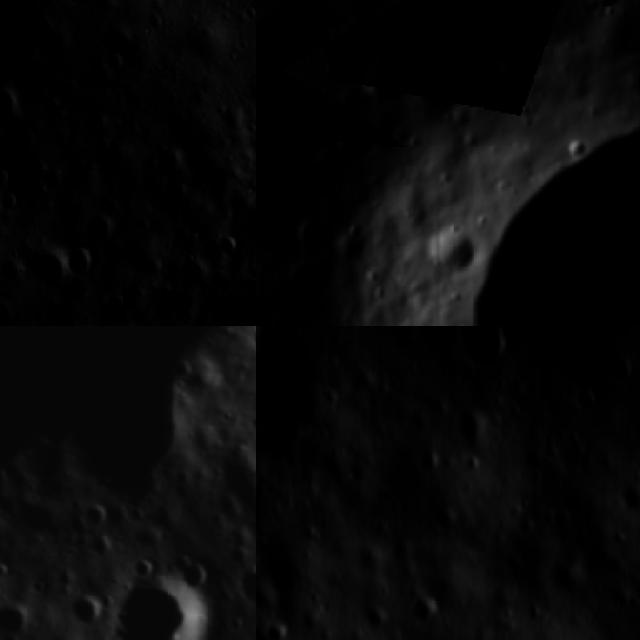crater: (319, 16, 640, 326), (113, 574, 227, 640), (355, 43, 421, 108), (256, 0, 305, 80), (301, 146, 354, 201), (453, 326, 515, 373), (331, 112, 382, 169), (22, 251, 75, 293), (256, 294, 322, 326), (264, 102, 308, 146), (82, 209, 126, 251), (404, 592, 450, 632), (61, 245, 99, 282), (67, 594, 105, 629), (427, 503, 462, 538), (0, 80, 21, 133), (573, 0, 630, 18), (256, 615, 295, 640), (617, 476, 640, 518), (240, 567, 256, 620), (80, 504, 110, 530), (68, 0, 105, 19), (0, 609, 25, 636), (85, 538, 113, 562), (30, 579, 54, 600), (252, 418, 256, 437)
